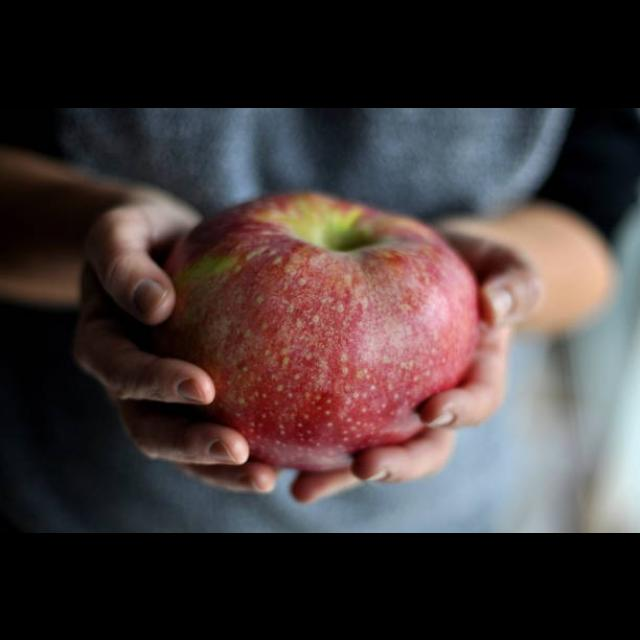Apel Segar: (161, 191, 489, 464)
